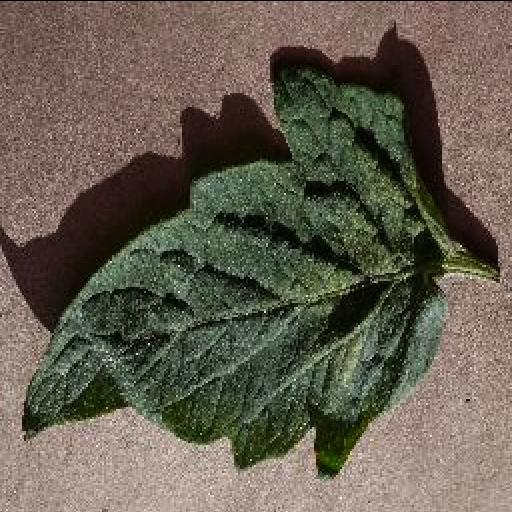disease_tomato: (18, 60, 452, 478)
